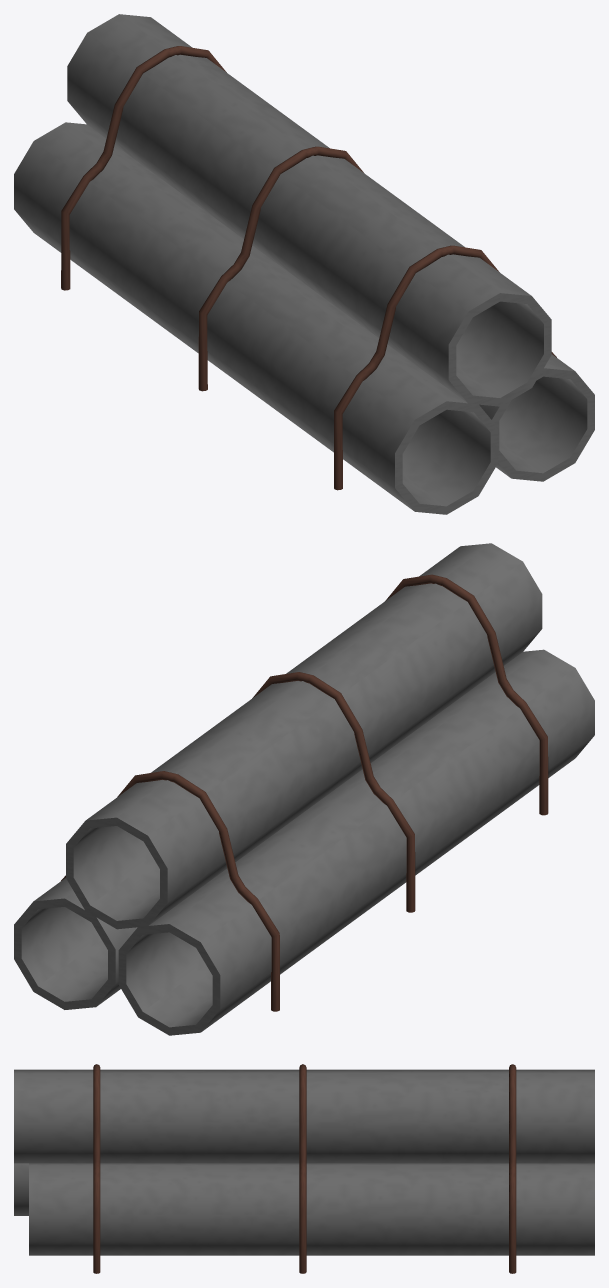
The model's file is ThreeBigPipes.fbx.
3 views of the same model, one above another, from view 1: azimuth 30°, elevation 25°; view 2: azimuth 150°, elevation 25°; view 3: azimuth 270°, elevation 25° (orthographic). The views are drawn at different scales.
Visible parts, largest first — view 1: Plane.002; view 2: Plane.002; view 3: Plane.002.
Boxes of the visible parts, bbox=[...] form: Plane.002: bbox=[14, 14, 594, 514]; Plane.002: bbox=[14, 543, 594, 1035]; Plane.002: bbox=[14, 1064, 594, 1273].
Bounding box in the file's own units: 271 × 249 × 801.
